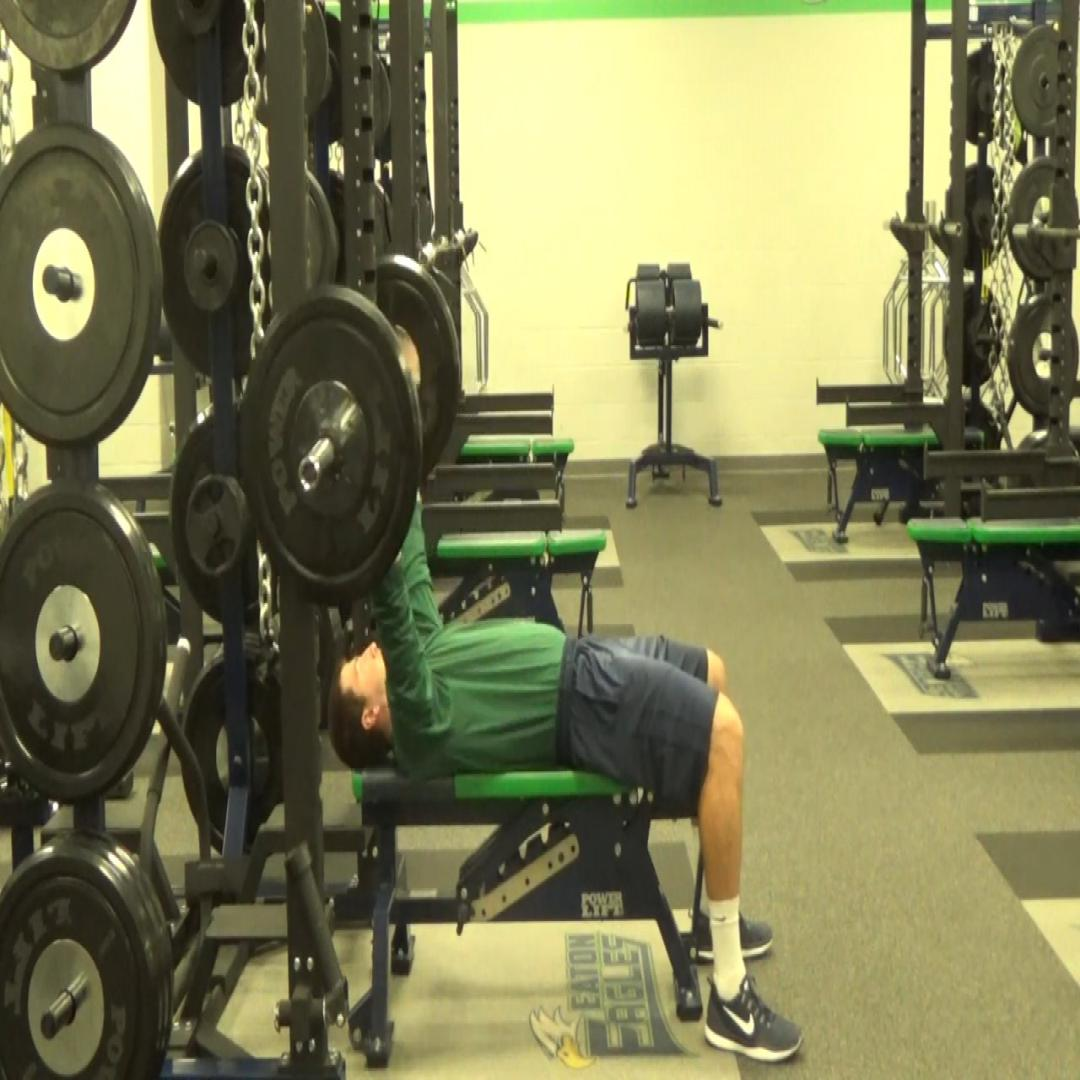Bar: (298, 455, 322, 495)
Barbell: (241, 283, 424, 604)
